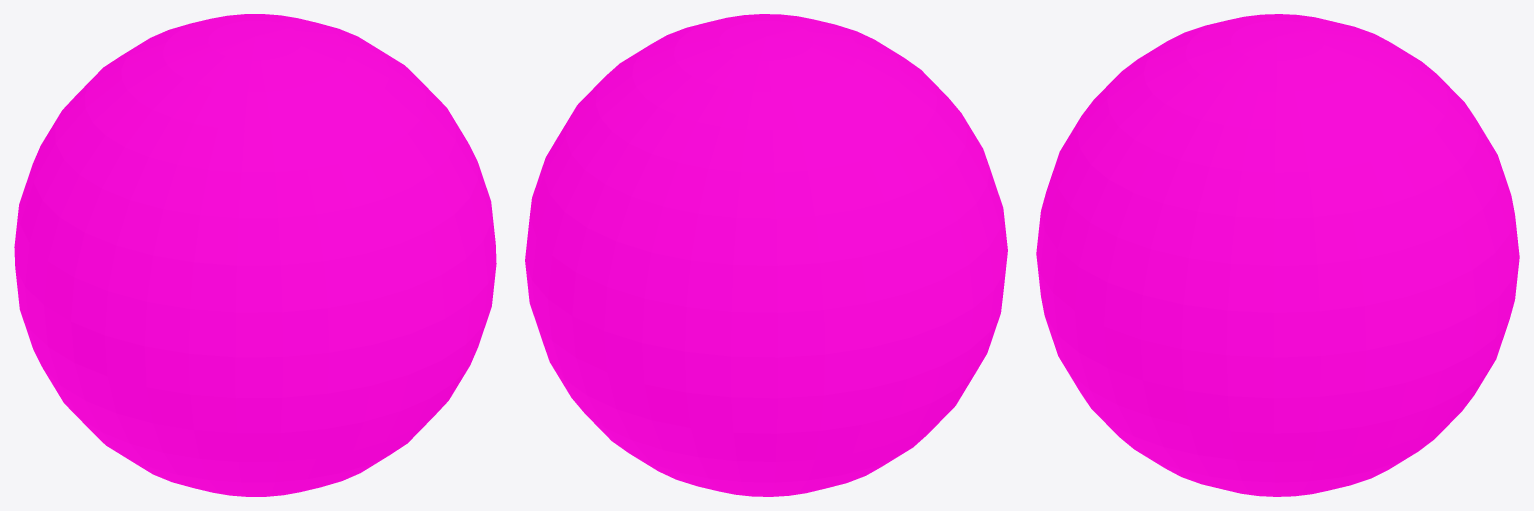
The model's file is world3d.glb.
3 renders of one model, left to right at view 1: azimuth 30°, elevation 25°; view 2: azimuth 150°, elevation 25°; view 3: azimuth 270°, elevation 25°, orthographic.
Visible parts, largest first — view 1: Sphere; view 2: Sphere; view 3: Sphere.
Boxes of the visible parts, <box> form: Sphere: <box>14,14,496,496</box>; Sphere: <box>525,14,1007,496</box>; Sphere: <box>1036,14,1519,496</box>.
Size of the model in its own units: 2 by 2 by 2.
